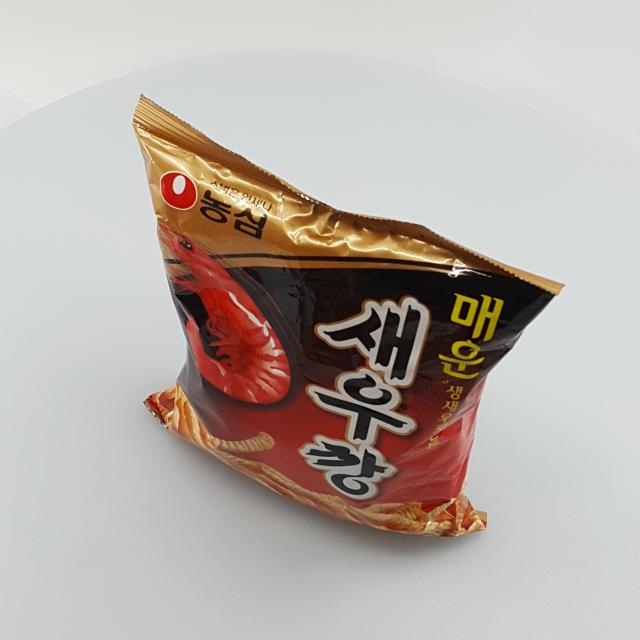-90G: (132, 95, 567, 540)
